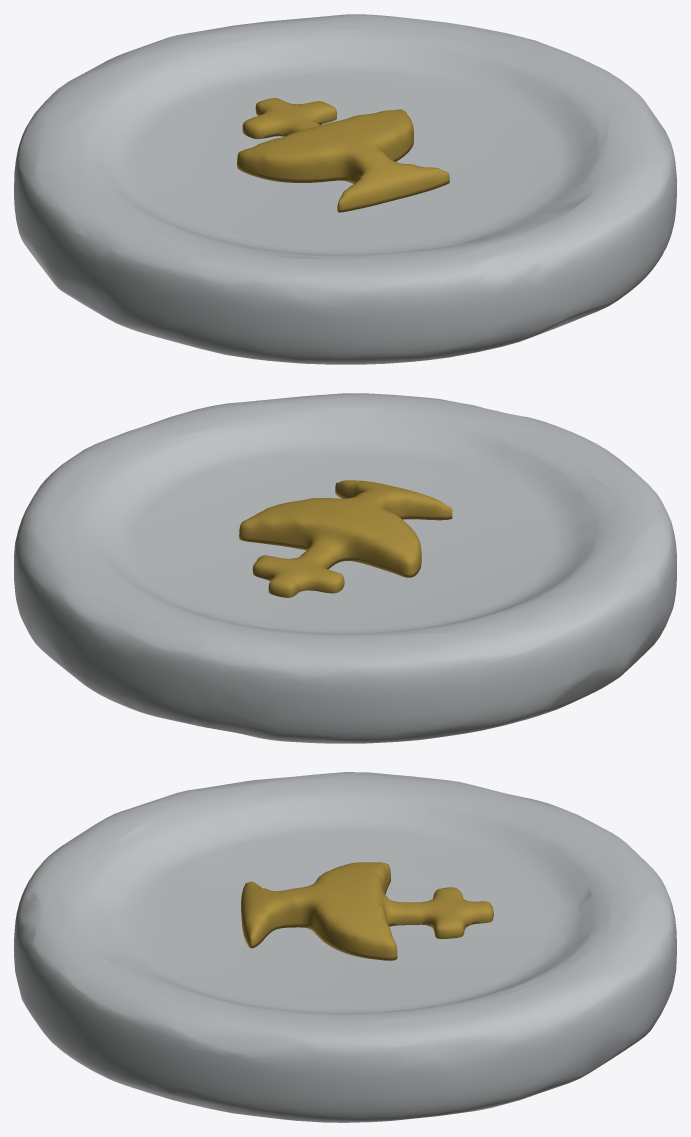
File: token-cleric-blue.glb
The picture shows the model from 3 angles, top to bottom: view 1: azimuth 30°, elevation 25°; view 2: azimuth 150°, elevation 25°; view 3: azimuth 270°, elevation 25°; orthographic projection.
Parts seen in each view (by area): view 1: token_cleric_blue; view 2: token_cleric_blue; view 3: token_cleric_blue.
Boxes of the visible parts, bbox=[...] form: token_cleric_blue: bbox=[14, 14, 676, 364]; token_cleric_blue: bbox=[14, 393, 676, 743]; token_cleric_blue: bbox=[14, 772, 676, 1122].
Bounding box in the file's own units: 0.4139 × 0.071 × 0.414.
